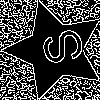S: (30, 25, 87, 71)
